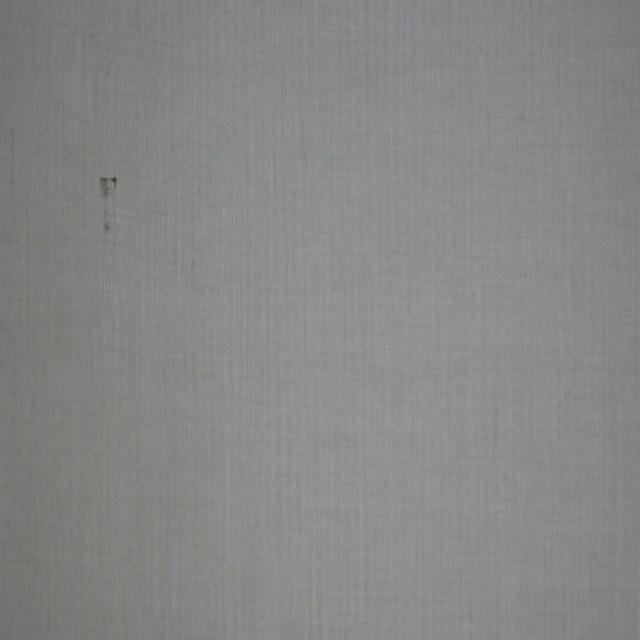dirty: (100, 178, 116, 231)
